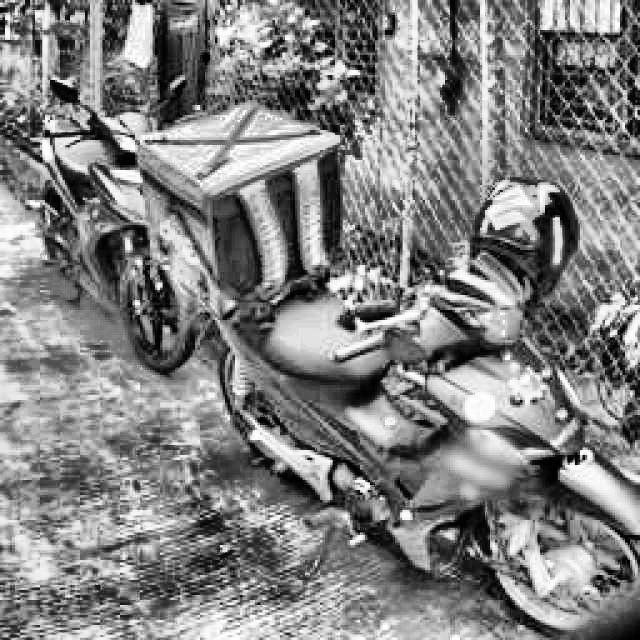motorcycle: (133, 114, 640, 640), (16, 56, 201, 376)
